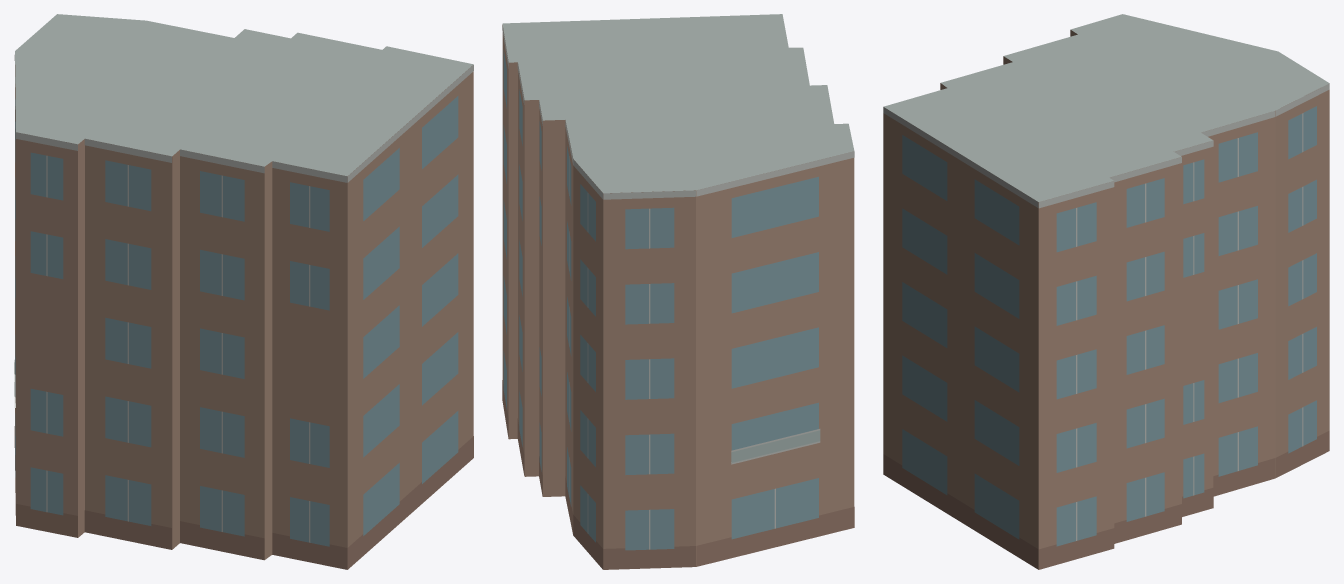
File: survey-upis-32536081.glb
3 renders of one model, left to right at view 1: azimuth 30°, elevation 25°; view 2: azimuth 150°, elevation 25°; view 3: azimuth 270°, elevation 25°, orthographic. The views are drawn at different scales.
Visible parts, largest first — view 1: survey-upis-32536081.tmp; view 2: survey-upis-32536081.tmp; view 3: survey-upis-32536081.tmp.
Boxes of the visible parts, box(x1,y1,x2,y2) form: survey-upis-32536081.tmp: box(14, 14, 473, 569); survey-upis-32536081.tmp: box(502, 14, 854, 569); survey-upis-32536081.tmp: box(883, 14, 1329, 569).
Bounding box in the file's own units: 15.76 × 14.35 × 15.8.
